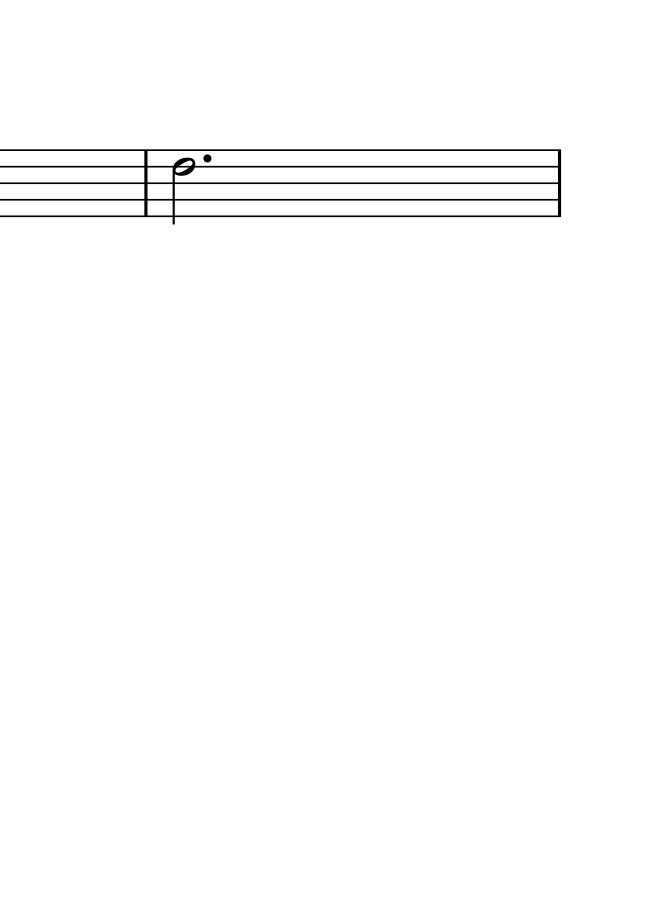2_6: (169, 147, 200, 228)
Single_barline: (138, 147, 154, 222), (551, 148, 568, 216)
dot: (198, 147, 217, 169), (200, 151, 214, 165)
